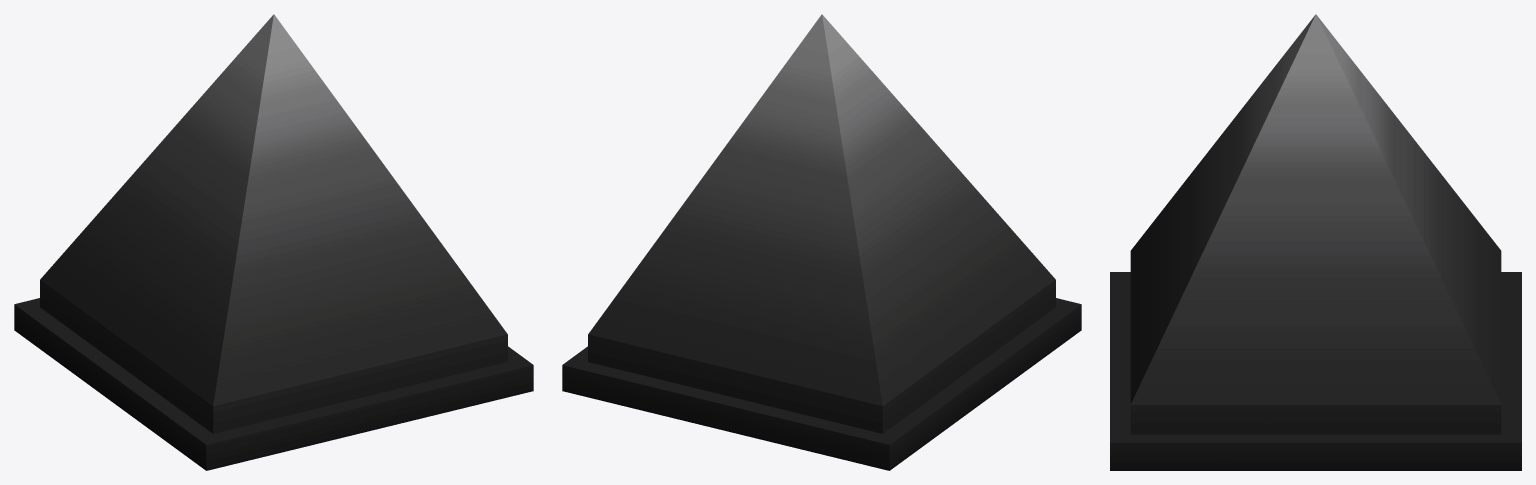
File: EA_Grave_Pyramid_01a.glb
3 views of the same model, side by side, from view 1: azimuth 30°, elevation 25°; view 2: azimuth 150°, elevation 25°; view 3: azimuth 270°, elevation 25° (orthographic). The views are drawn at different scales.
Parts seen in each view (by area): view 1: EA_Grave_Pyramid_01a; view 2: EA_Grave_Pyramid_01a; view 3: EA_Grave_Pyramid_01a.
Part boxes in pixels (left/top/right/bottom): EA_Grave_Pyramid_01a: left=14, top=14, right=533, bottom=470; EA_Grave_Pyramid_01a: left=562, top=14, right=1081, bottom=470; EA_Grave_Pyramid_01a: left=1110, top=14, right=1521, bottom=470.
Bounding box in the file's own units: 2.72 × 2.76 × 2.77.
1 material, 1 textured.
